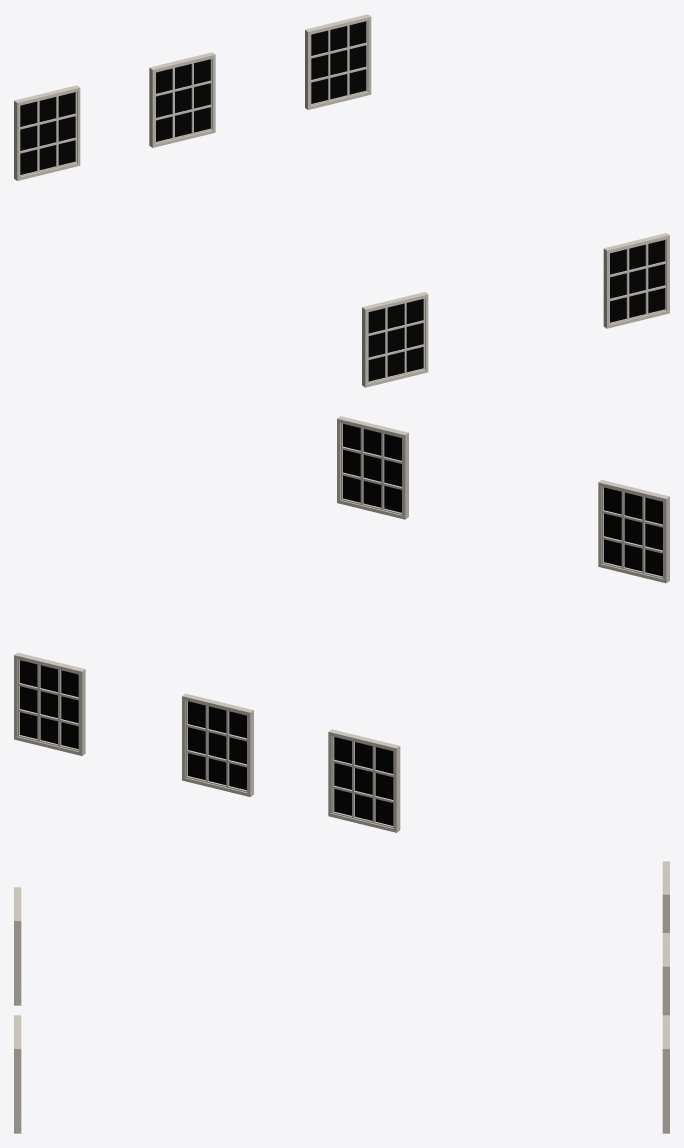
File: Ventanas.fbx
3 renders of one model, top to bottom at view 1: azimuth 30°, elevation 25°; view 2: azimuth 150°, elevation 25°; view 3: azimuth 270°, elevation 25°, orthographic. The views are drawn at different scales.
Visible parts, largest first — view 1: Ventanas; view 2: Ventanas; view 3: Ventanas.
Part boxes in pixels (x1=…): Ventanas: x1=14, y1=14, x2=669, y2=387; Ventanas: x1=14, y1=416, x2=669, y2=832; Ventanas: x1=14, y1=861, x2=669, y2=1133.
Bounding box in the file's own units: 243 × 359 × 51.18.
